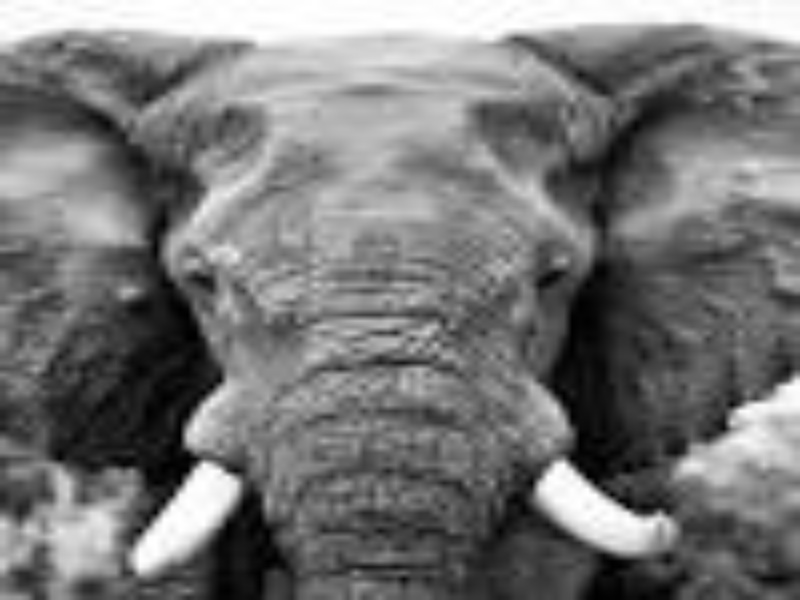elephant: (3, 16, 800, 586)
